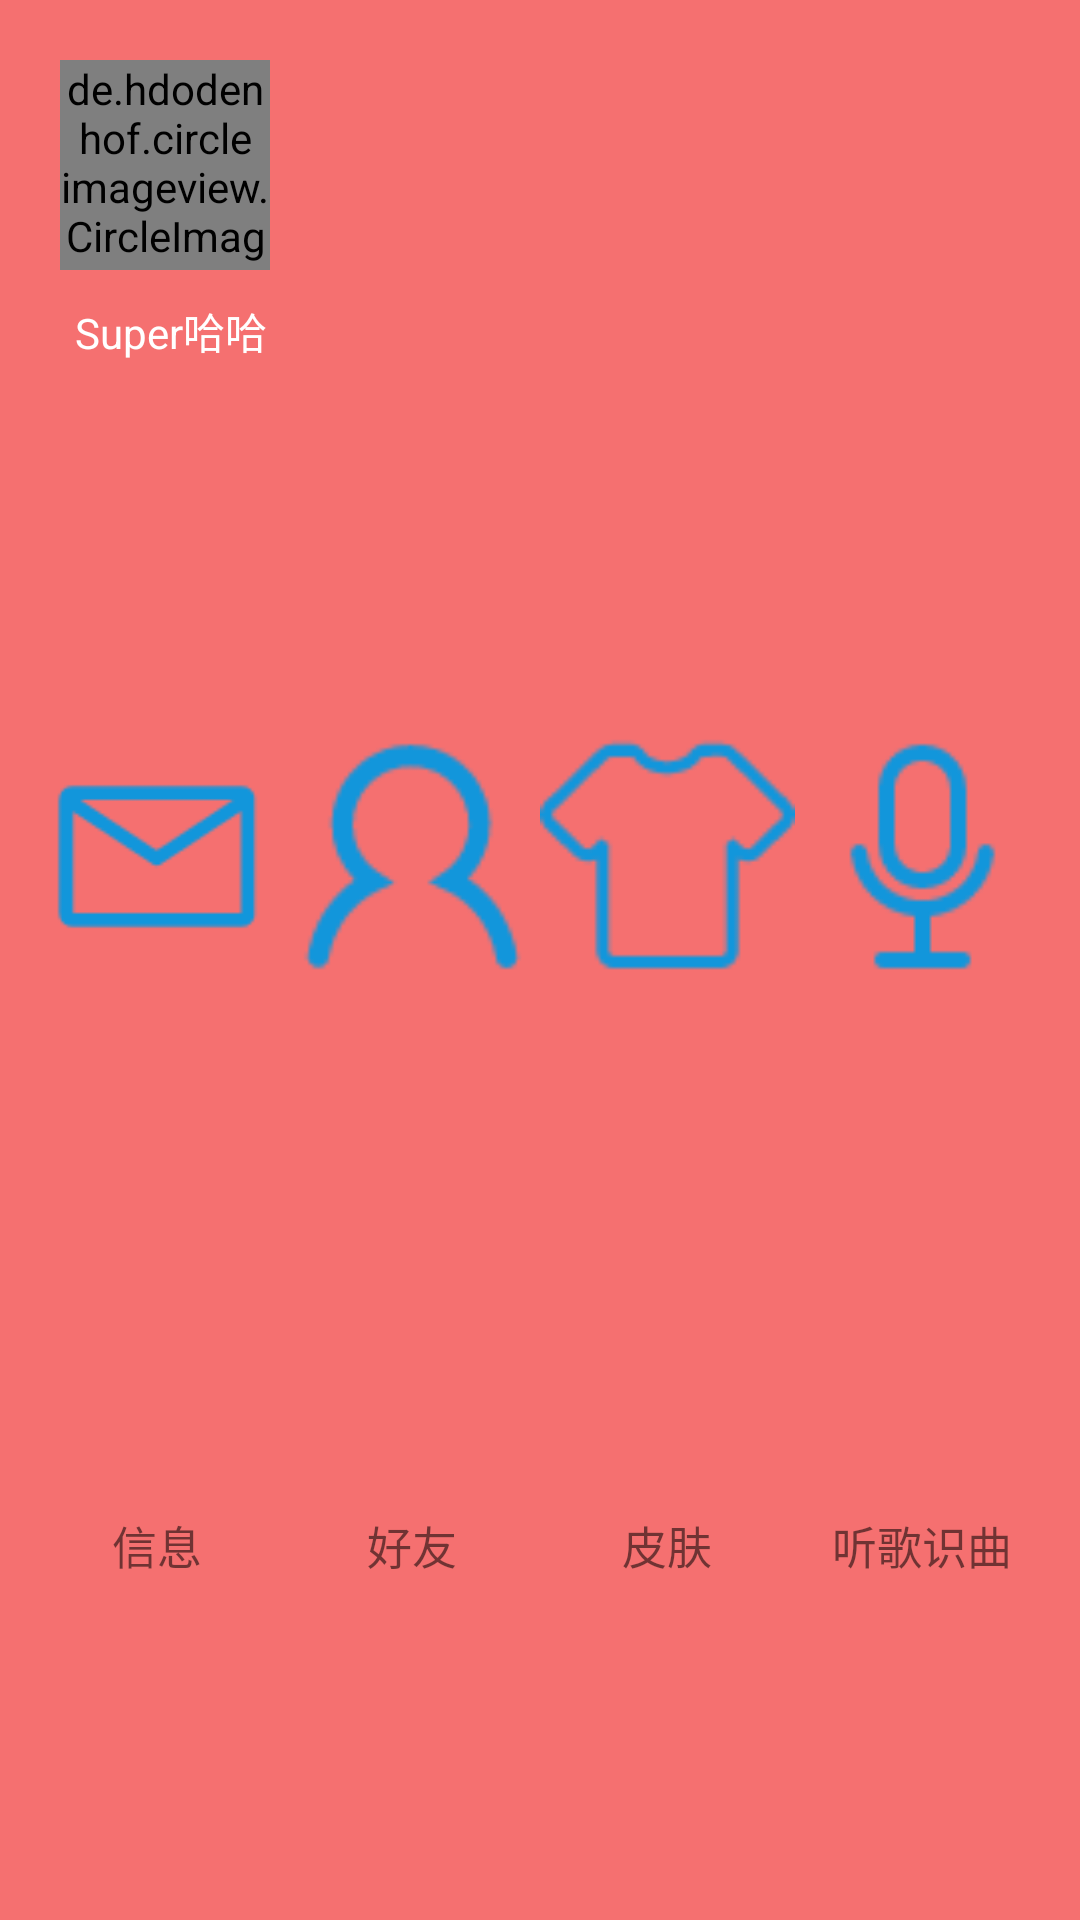

Where to tap for icons on this 1080px x 1920px app screen, as (x,y):
dress: (667,855)
friends: (412,856)
message: (157,856)
sing: (922,856)
